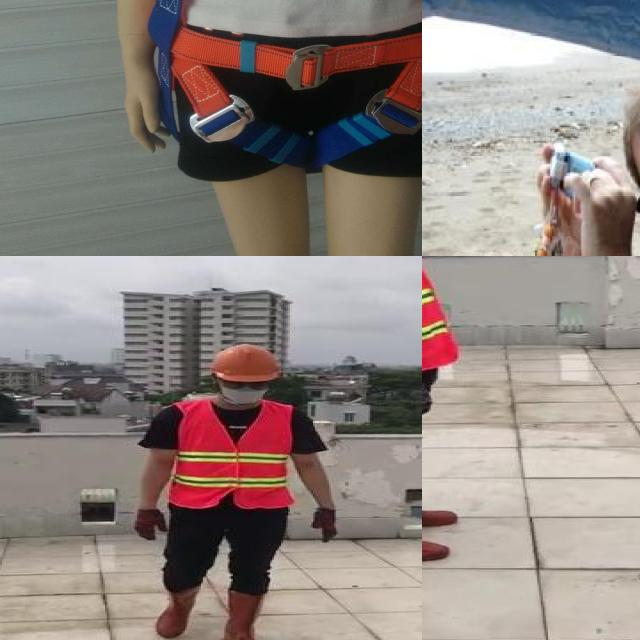Harness: (147, 0, 422, 154)
boots: (140, 587, 202, 639), (422, 458, 458, 528), (226, 589, 274, 640), (422, 482, 450, 565)
face_mask: (214, 378, 273, 408)
glasses: (215, 378, 274, 392)
hand_glove: (133, 508, 169, 539), (311, 507, 340, 544), (422, 384, 436, 421)
hand_noglove: (559, 151, 640, 256)
head_helmet: (207, 340, 284, 384)
person: (116, 334, 344, 640), (523, 78, 640, 256), (422, 256, 486, 568)
vest: (171, 402, 295, 508)
